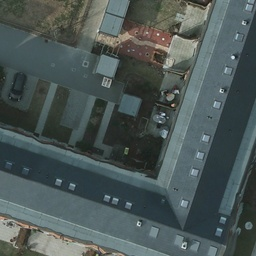car: (8, 69, 26, 103)
